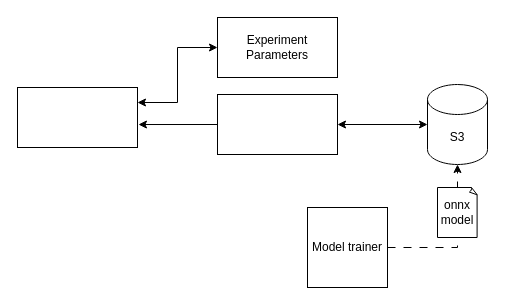
The diagram is 505 pixels wide and 305 high, and some of its shapes have lost their labels. The shapes that lost their labels are listed below. From the top down, each one's box as (x1, y1, x2, y2) in pixels, then its label:
(16, 86, 138, 148): Arm Selector
(216, 94, 338, 154): Reward Predictor
